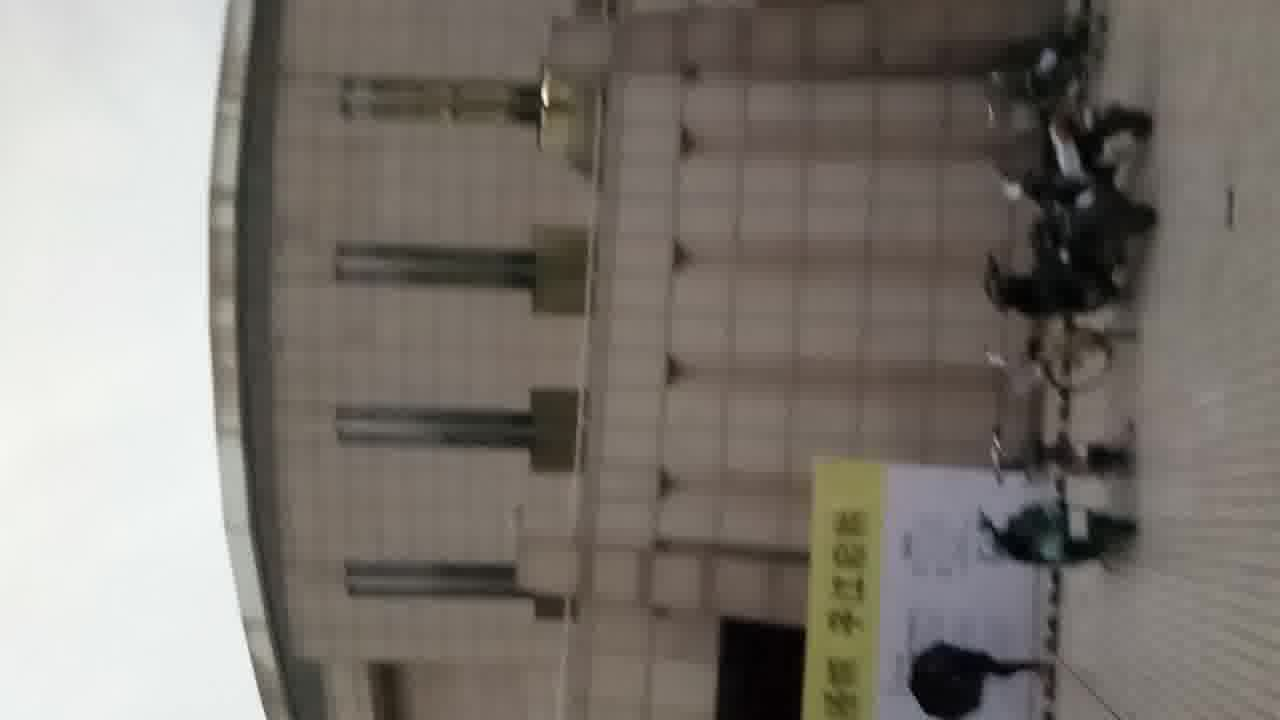zhongtiww: (199, 8, 1034, 720)
